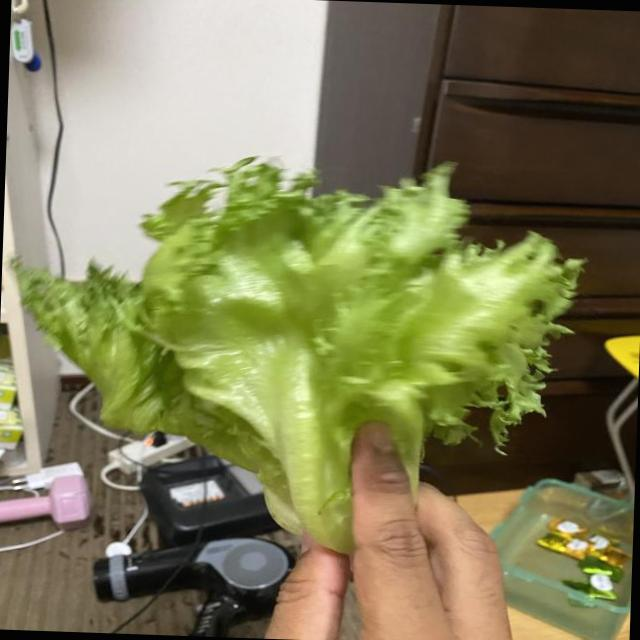Lettuce-Ready-to-Harvest: (17, 157, 581, 551)
